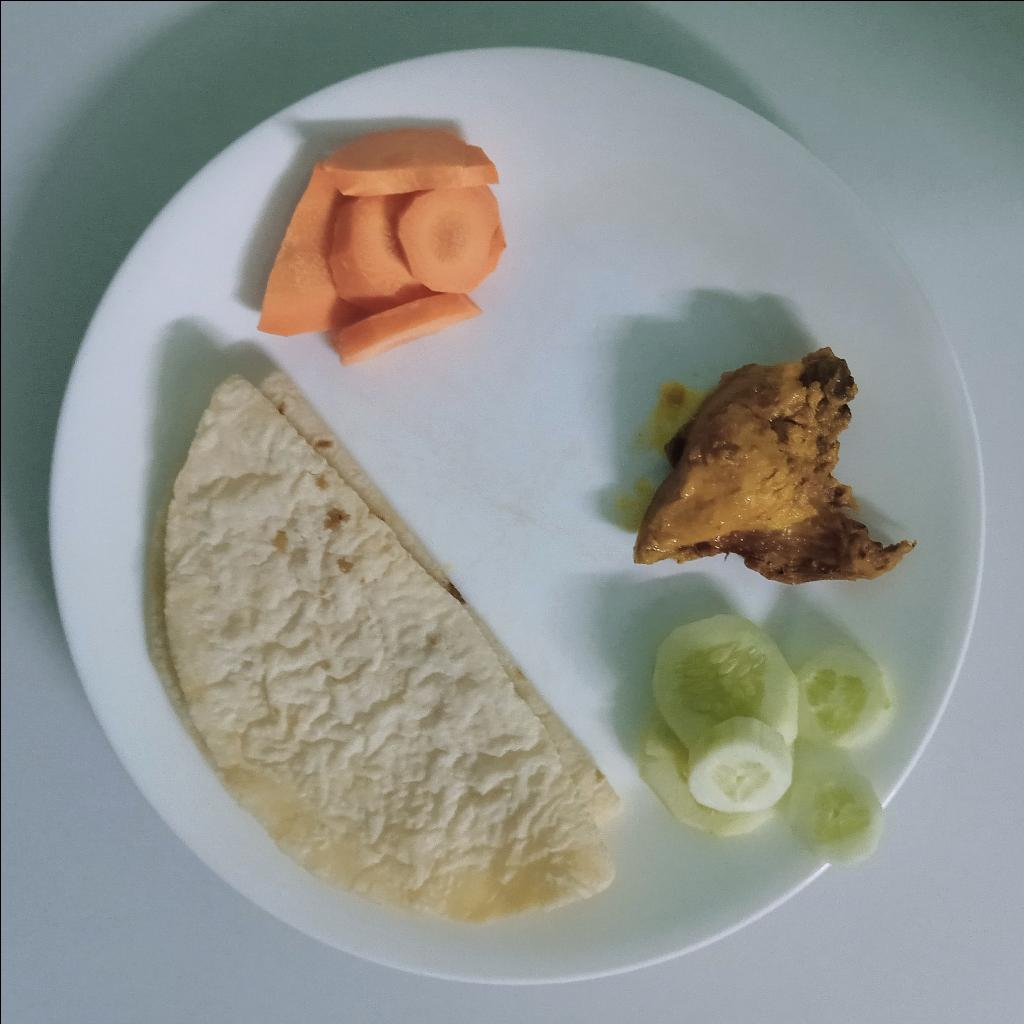carrot: (256, 129, 506, 367)
chicken: (632, 345, 917, 584)
cucumber: (637, 613, 893, 867)
ruti: (146, 368, 627, 922)
